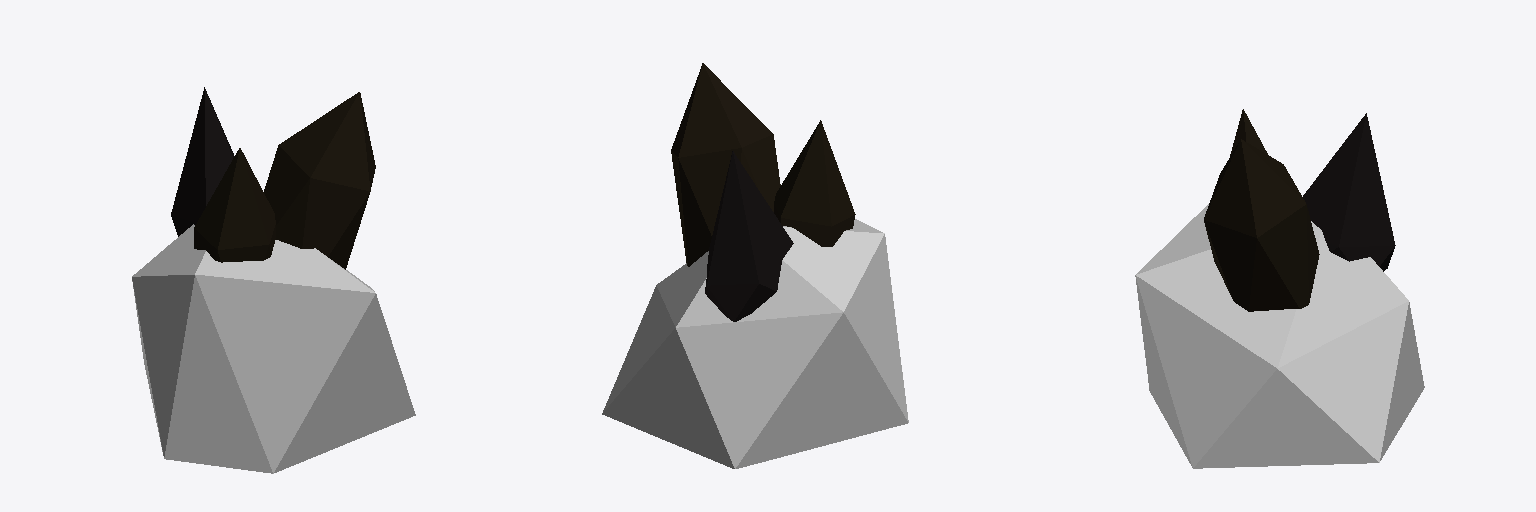
Rendered from IronOre.obj.
3 renders of one model, left to right at view 1: azimuth 30°, elevation 25°; view 2: azimuth 150°, elevation 25°; view 3: azimuth 270°, elevation 25°, orthographic.
Parts seen in each view (by area): view 1: Icosphere.002, Icosphere, Icosphere.001; view 2: Icosphere.002, Icosphere, Icosphere.001; view 3: Icosphere.002, Icosphere, Icosphere.001.
Boxes of the visible parts, <box> form: Icosphere.002: <box>132,224,415,473</box>; Icosphere: <box>194,92,375,269</box>; Icosphere.001: <box>171,87,234,236</box>; Icosphere.002: <box>602,219,908,468</box>; Icosphere: <box>671,63,855,266</box>; Icosphere.001: <box>705,151,793,321</box>; Icosphere.002: <box>1135,204,1424,468</box>; Icosphere: <box>1204,109,1319,311</box>; Icosphere.001: <box>1303,113,1395,271</box>.
Bounding box in the file's own units: 1.51 × 1.97 × 1.63.